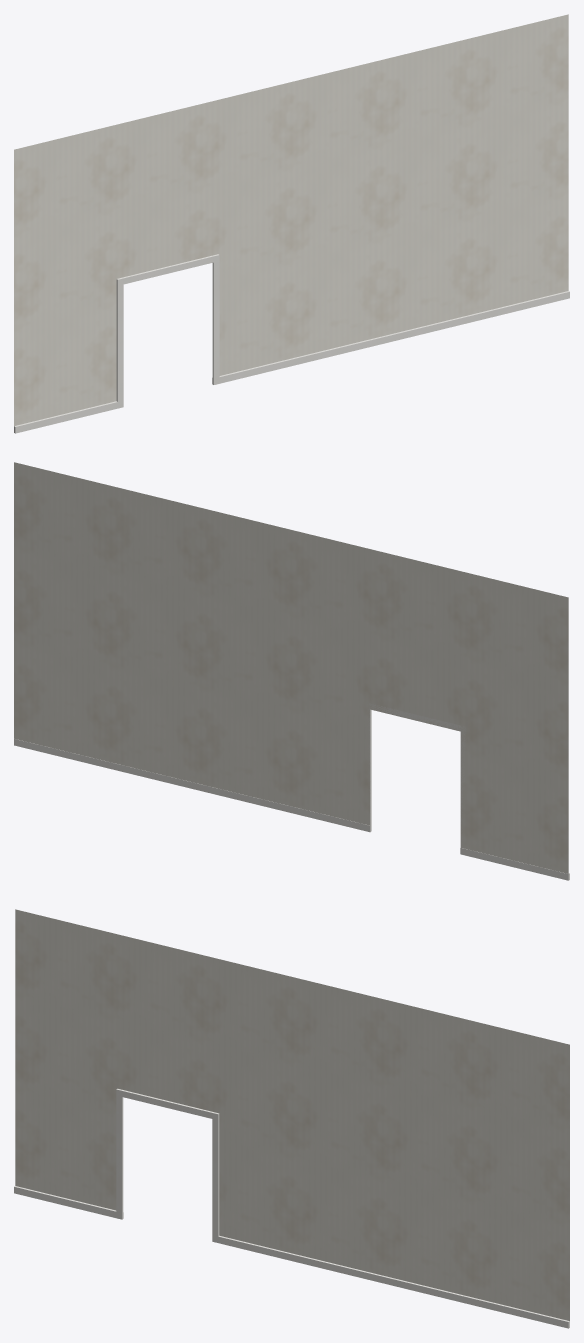
The picture shows the model from 3 angles, top to bottom: view 1: azimuth 30°, elevation 25°; view 2: azimuth 150°, elevation 25°; view 3: azimuth 330°, elevation 25°; orthographic projection.
Visible parts, largest first — view 1: jx_wm_12_ec9100d6; view 2: jx_wm_12_ec9100d6; view 3: jx_wm_12_ec9100d6.
Boxes of the visible parts, left/top/right/bottom form: jx_wm_12_ec9100d6: left=14, top=14, right=569, bottom=433; jx_wm_12_ec9100d6: left=14, top=462, right=569, bottom=880; jx_wm_12_ec9100d6: left=14, top=909, right=569, bottom=1328.
Bounding box in the file's own units: 12.3 × 6 × 0.05.
2 materials, 2 textured.
